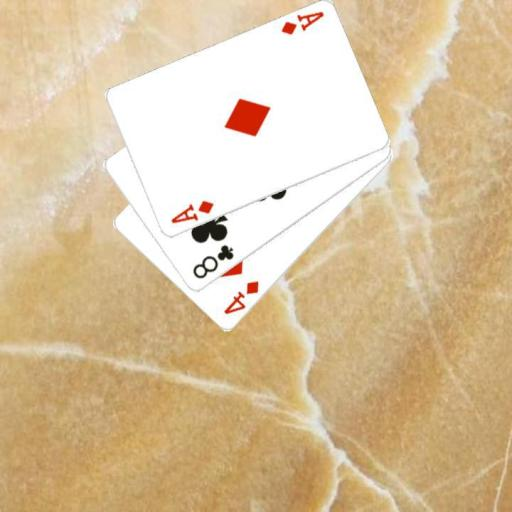4D: (221, 278, 261, 316)
8C: (190, 242, 236, 281)
AD: (277, 9, 325, 37), (167, 198, 216, 225)
